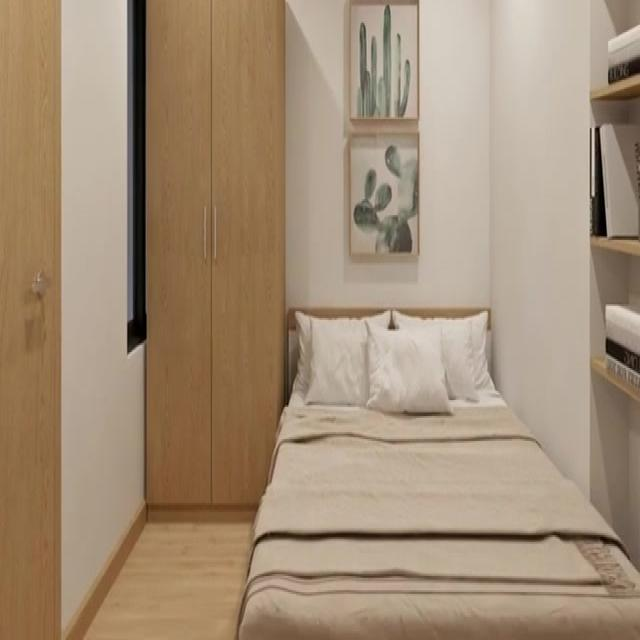obstacle: (234, 306, 639, 638), (144, 0, 285, 512)
